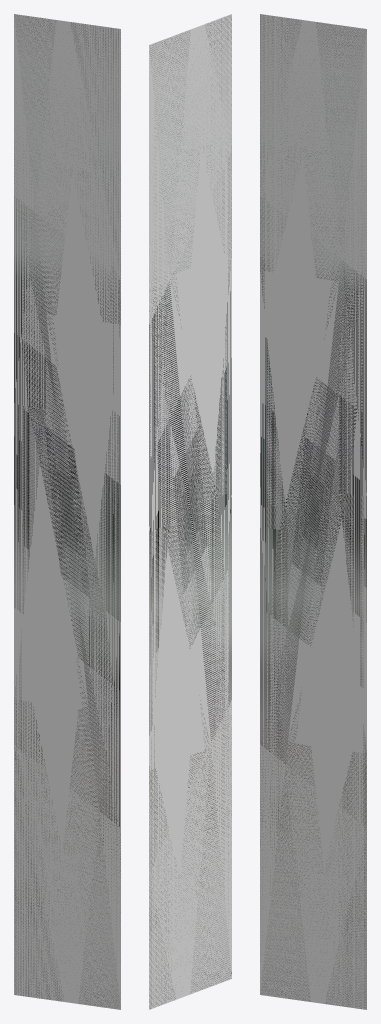
File: 西庸城堡578.dae
3 views of the same model, side by side, from view 1: azimuth 90°, elevation 25°; view 2: azimuth 150°, elevation 25°; view 3: azimuth 270°, elevation 25° (orthographic).
Visible parts, largest first — view 1: SketchUp; view 2: SketchUp; view 3: SketchUp.
Part boxes in pixels (<box>): SketchUp: <box>14,14,120,1009</box>; SketchUp: <box>149,14,231,1009</box>; SketchUp: <box>260,14,366,1009</box>.
Bounding box in the file's own units: 5.34 × 16.06 × 163.
